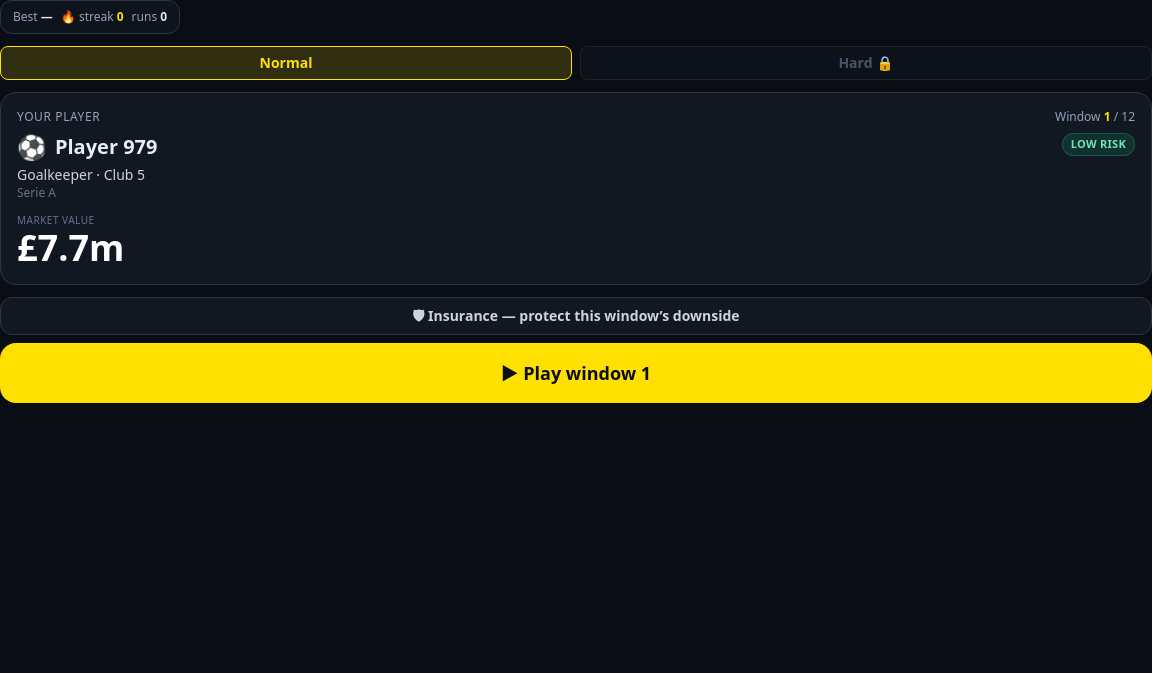
Scenario: Game interaction (jsdom) › swaps via two-tap confirm
Click the button "▶ Play window 1" at [576, 373], box 0,343 -> 1151,403
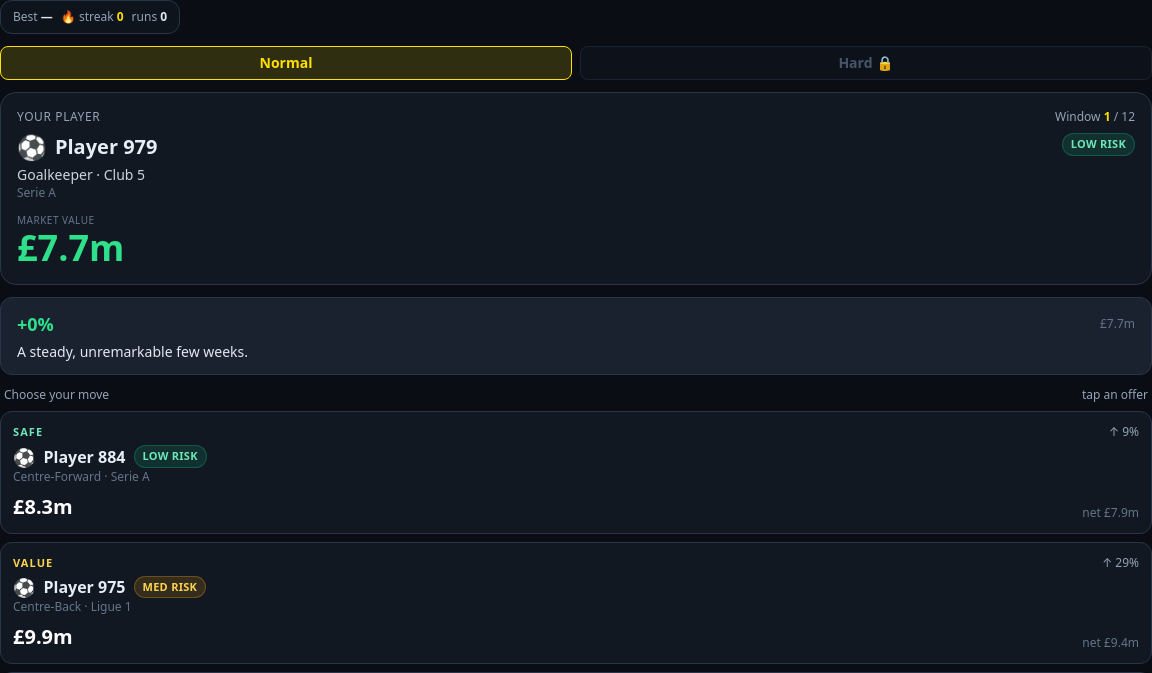
// First tap on the SAFE offer arms it (shows confirm hint).
Click the button "SAFE" at [28, 432], box 0,411 -> 1151,534
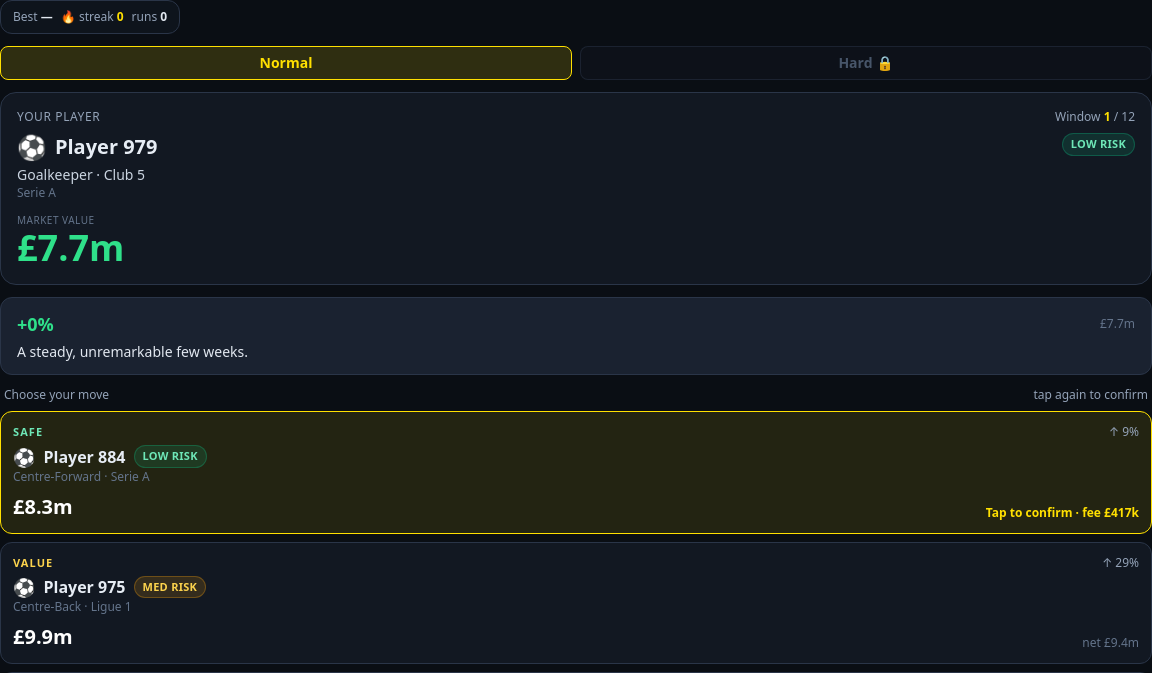
expect the text "Tap to confirm · fee £417k" is shown: met, box 986,504 -> 1139,520
Click the button "SAFE" at [28, 432], box 0,411 -> 1151,534
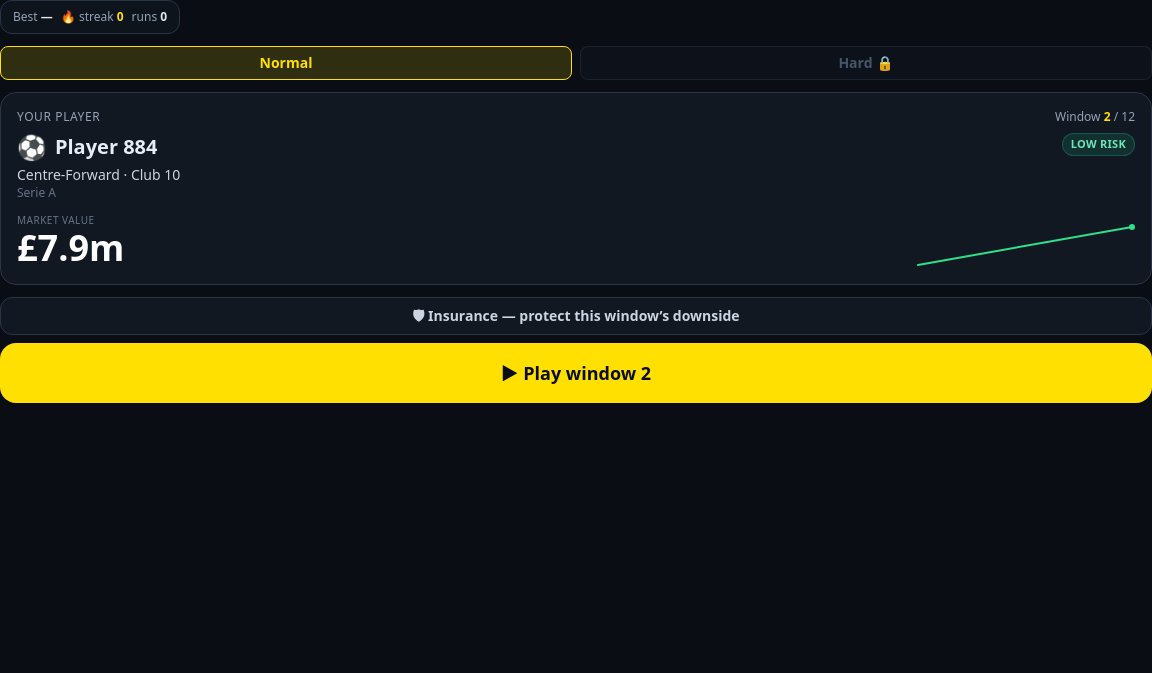
expect the button "▶ Play window 2" is shown: met, box 0,343 -> 1151,403
